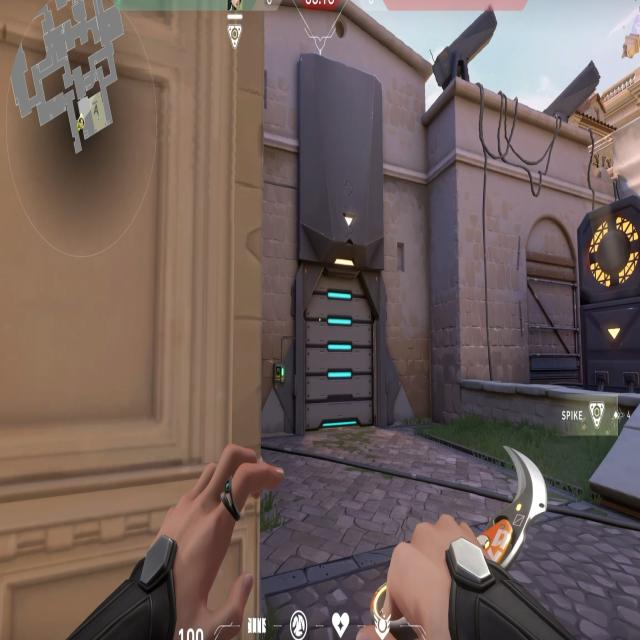A_Door: (286, 243, 386, 442)
